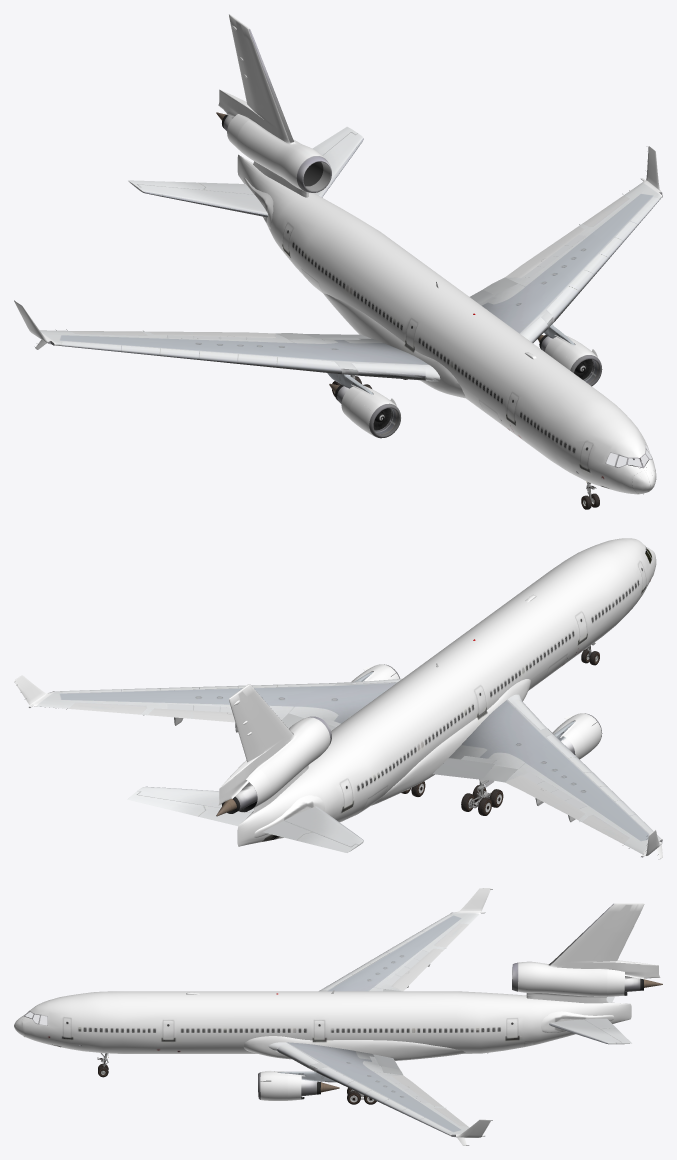
Rendered from White.gltf.
3 renders of one model, top to bottom at view 1: azimuth 30°, elevation 25°; view 2: azimuth 150°, elevation 25°; view 3: azimuth 270°, elevation 25°, orthographic. The views are drawn at different scales.
Parts seen in each view (by area): view 1: Exterior; view 2: Exterior; view 3: Exterior.
Part boxes in pixels (x1,y1,x2,y2): Exterior: (14,14,662,509); Exterior: (14,538,662,858); Exterior: (14,888,662,1145).
Size of the model in its own units: 52.1 by 18.22 by 61.61.
Materials: 21 (15 with a texture image).
